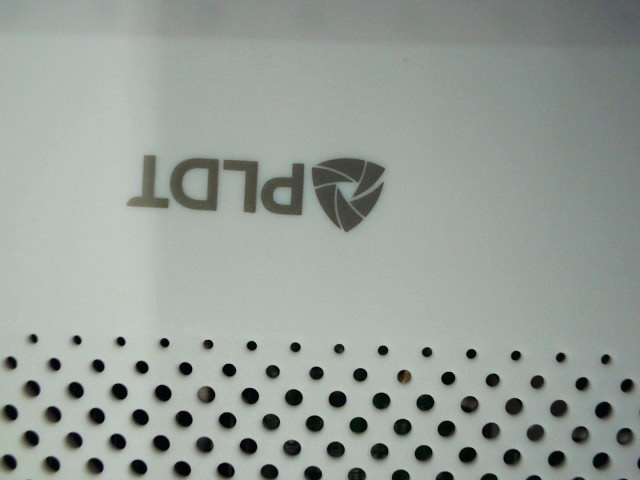BH_PLDT: (115, 135, 404, 256)
